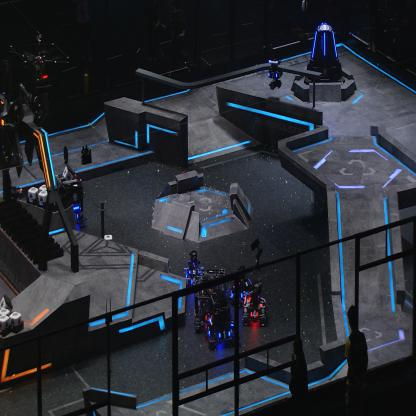car: (192, 265, 228, 332), (202, 290, 234, 348), (54, 172, 85, 230), (241, 278, 268, 328), (227, 265, 256, 308), (183, 250, 206, 292)
